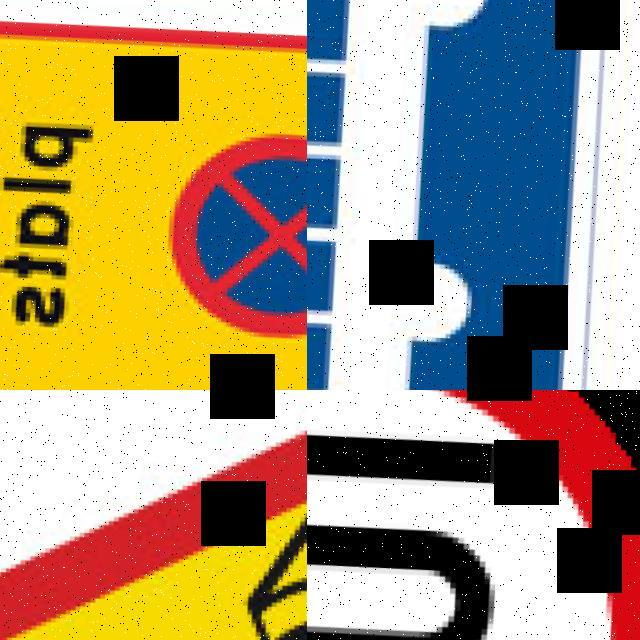155: (0, 390, 307, 640)
177: (0, 0, 307, 390)
Bus stop: (307, 0, 621, 390)
speed limit-100: (307, 390, 640, 640)
